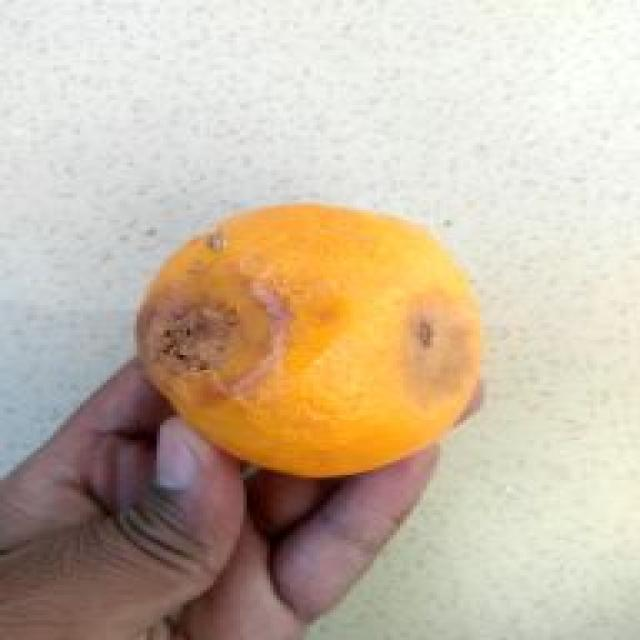Bad_Orange: (138, 205, 480, 477)
